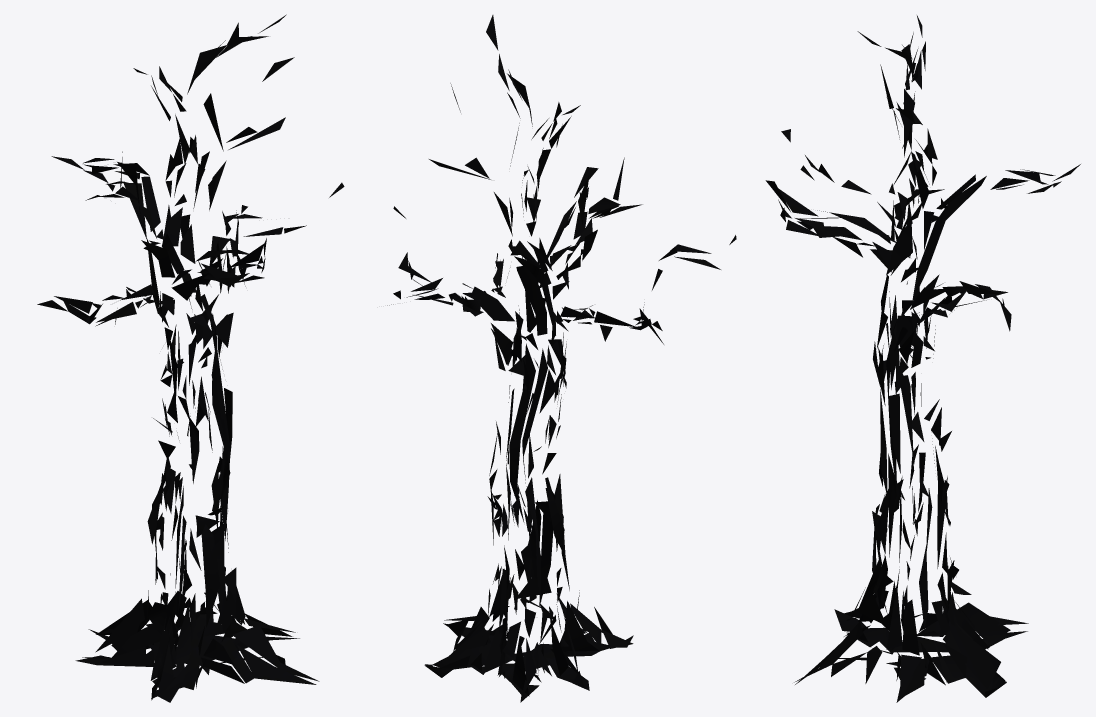
Rendered from dead_tree_lod2.glb.
3 views of the same model, side by side, from view 1: azimuth 30°, elevation 25°; view 2: azimuth 150°, elevation 25°; view 3: azimuth 270°, elevation 25° (orthographic). The views are drawn at different scales.
Visible parts, largest first — view 1: dead_tree_body; view 2: dead_tree_body; view 3: dead_tree_body.
Part boxes in pixels (bbox=[...]): dead_tree_body: bbox=[37, 14, 344, 702]; dead_tree_body: bbox=[387, 15, 736, 702]; dead_tree_body: bbox=[765, 15, 1080, 702].
Size of the model in its own units: 4.65 by 9.48 by 4.04.
Materials: 1 (1 with a texture image).
